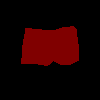shorts: (20, 26, 79, 66)
